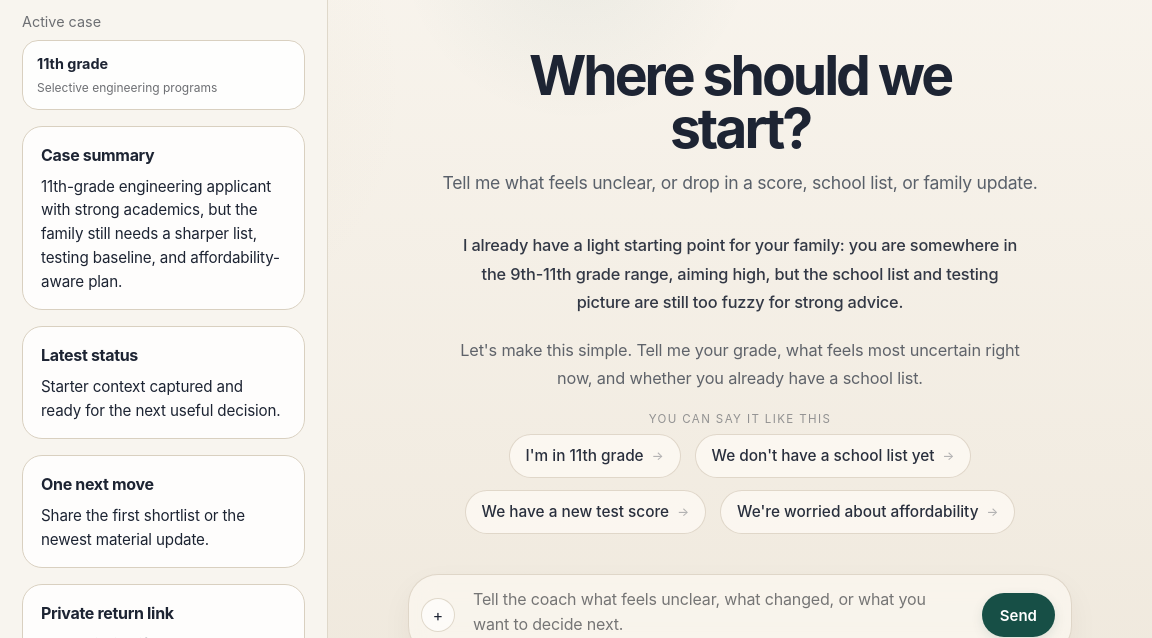
Scenario: CoachShell › lets the user paste a material update and keeps the analysis inside the chat flow
Expected: the heading "Where should we start?" is shown, [498,48,982,154]
Click the button named "open attachment options". click: (438, 615)
box: [421,598,455,632]
(page scrolled)
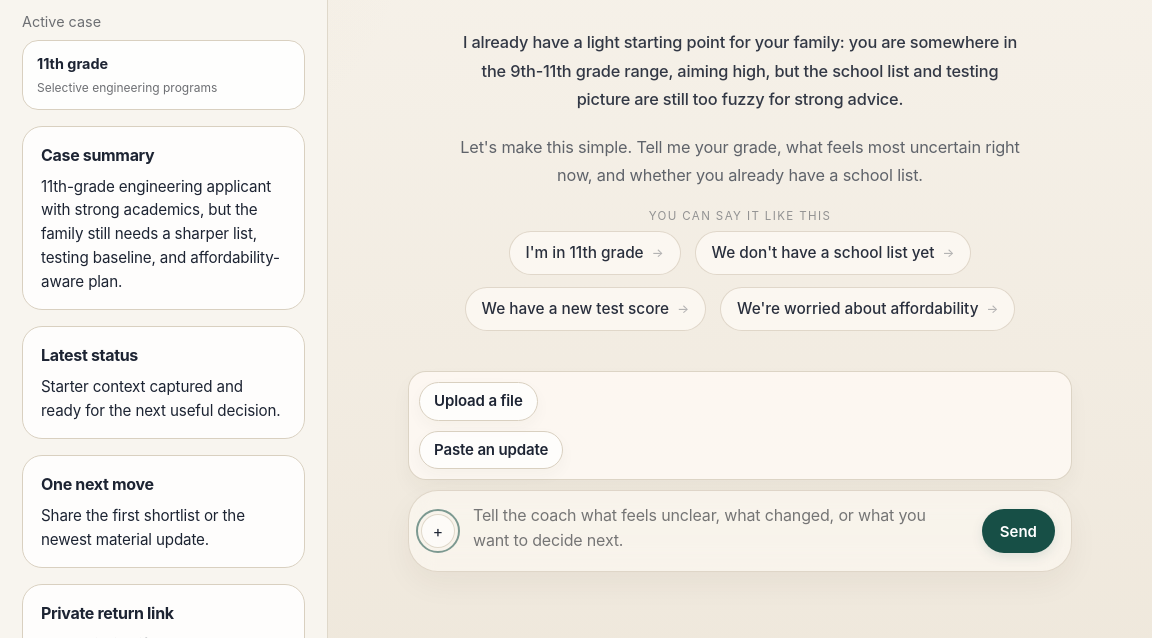
Click the button "Paste an update". click: (491, 450)
box: [419,431,563,469]
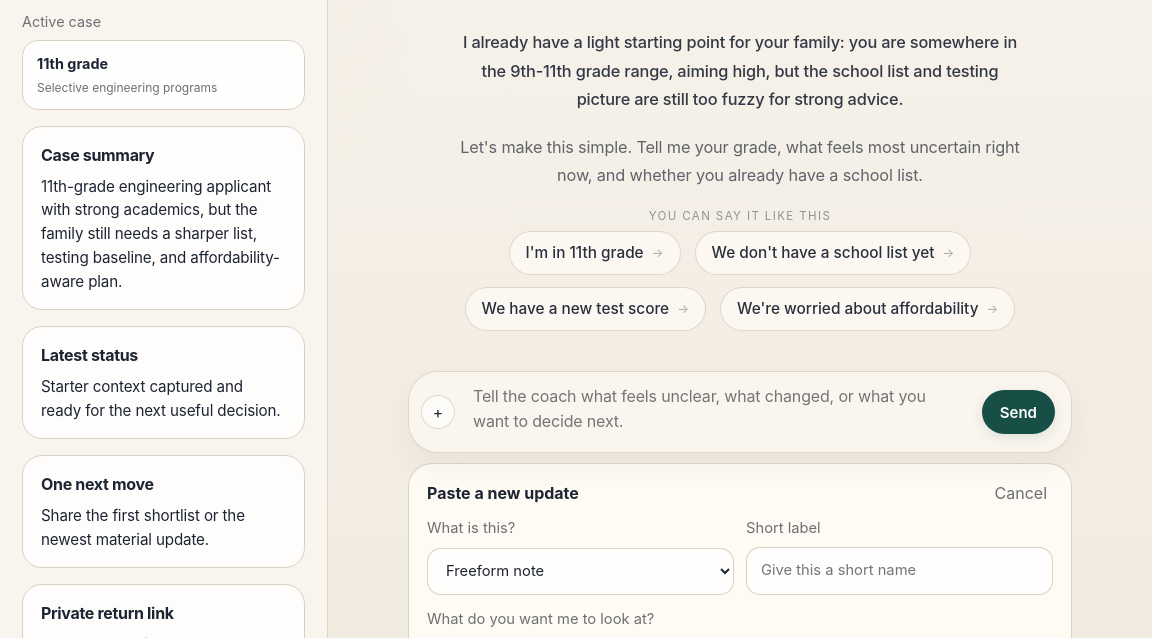
Select "Test score" in the dropdown named "material type". click: (580, 571)
box: [427,548,734,595]
Type "March SAT" into the field named "title". click: (900, 571)
box: [746,547,1053,594]
(page scrolled)
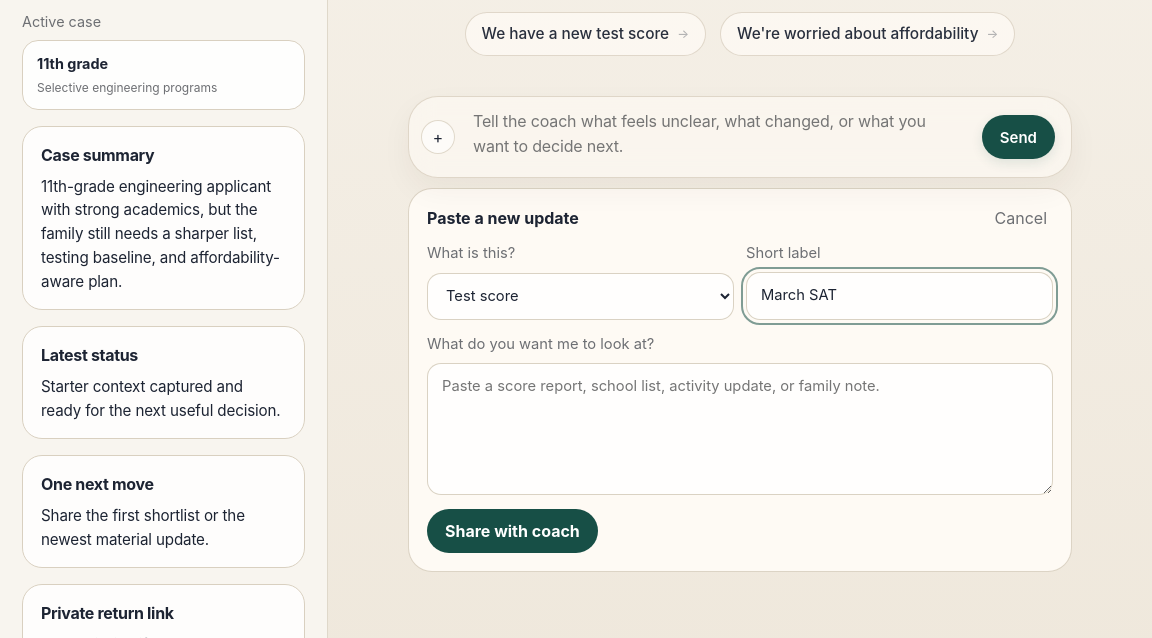
Type "New SAT update: Math 760, Reading and Writing 730." into the text box named "material content". click: (740, 429)
box: [427,363,1053,495]
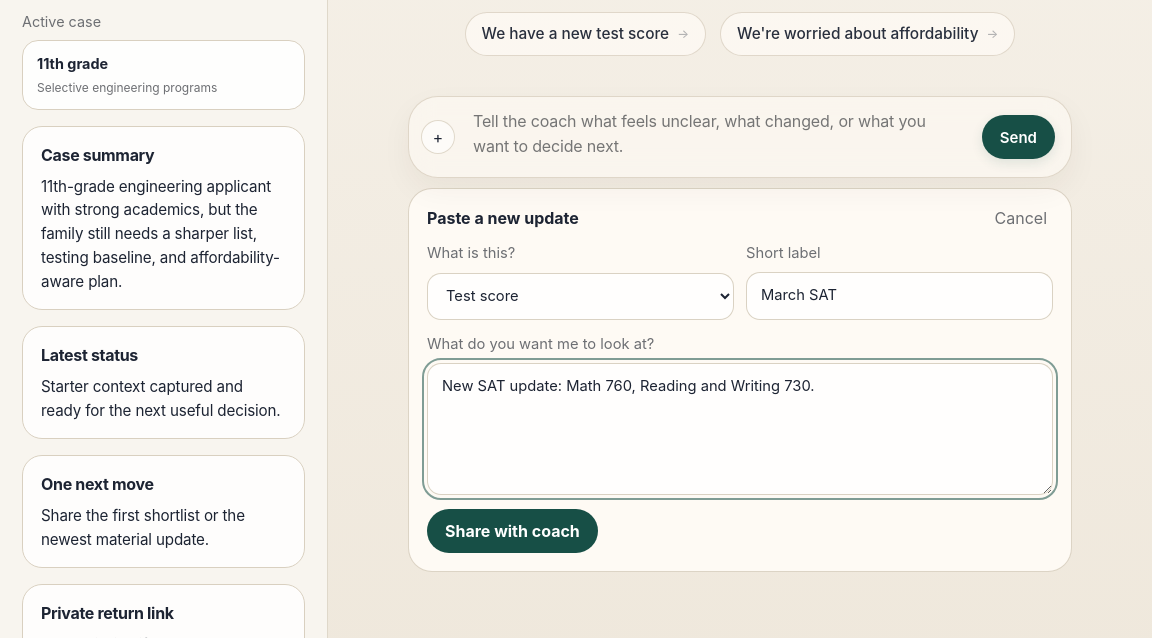
Click the button "Share with coach". click: (512, 531)
box: [427,509,598,553]
(page scrolled)
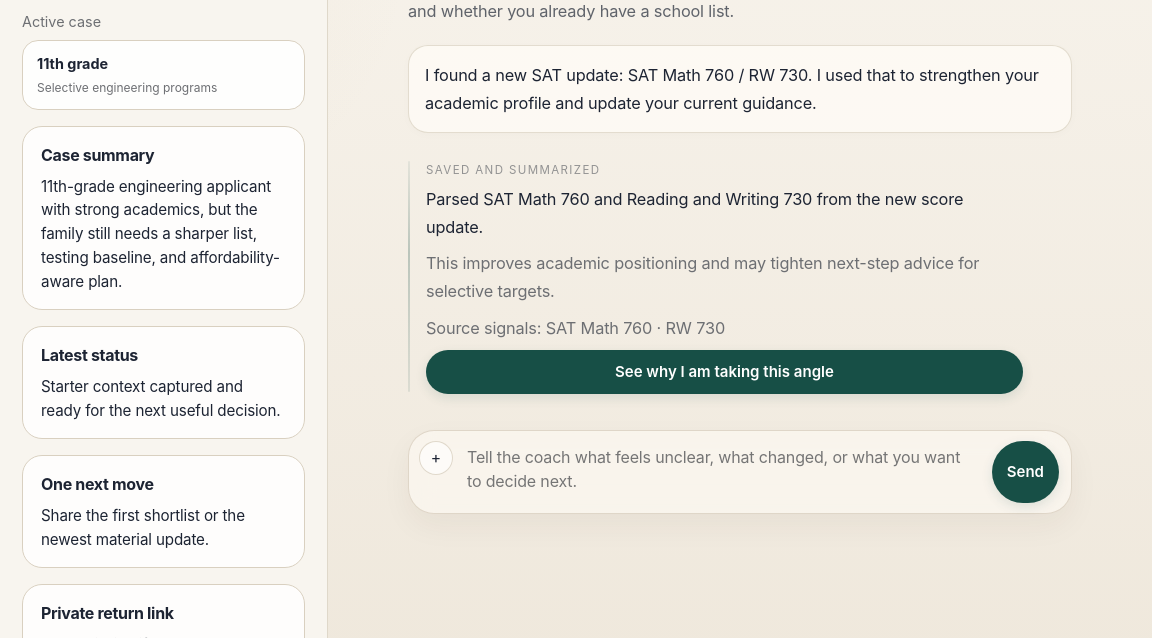
Expected: the text "Saved and summarized" is shown, [426,163,600,177]
Expected: the text "Parsed SAT Math 760 and Reading and Writing 730 from the new score update." is shown, [426,185,1023,241]
Expected: the button "See why I am taking this angle" is shown
Click the button "See why I am taking this angle". click: (724, 372)
box: [426,350,1023,394]
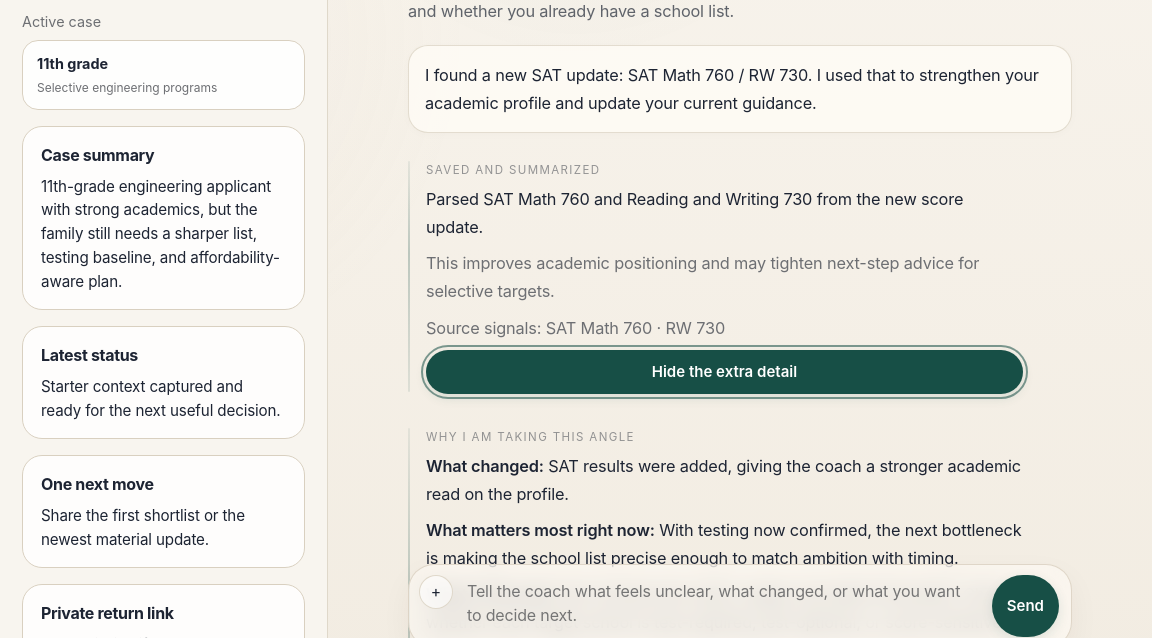
Expected: the text "What changed:" is shown, [426,456,544,476]
